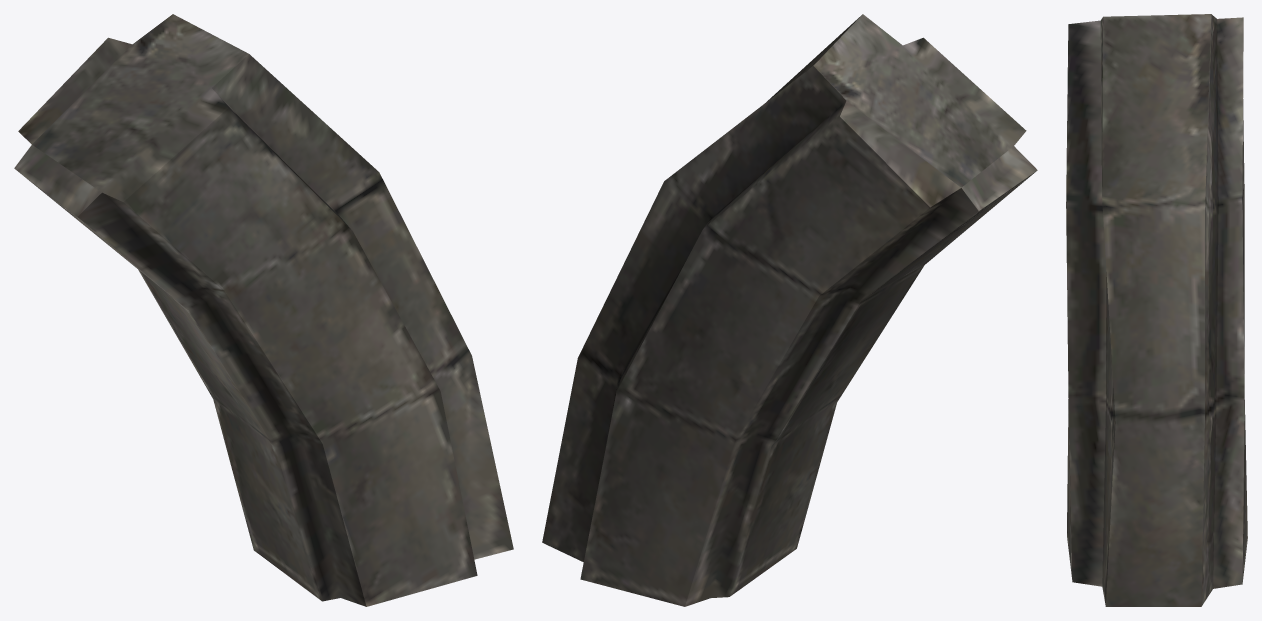
The model's file is SC_SLstone01.FBX.
3 renders of one model, left to right at view 1: azimuth 30°, elevation 25°; view 2: azimuth 150°, elevation 25°; view 3: azimuth 270°, elevation 25°, orthographic. The views are drawn at different scales.
Parts seen in each view (by area): view 1: SC_SLstone01; view 2: SC_SLstone01; view 3: SC_SLstone01.
Part boxes in pixels (x1,y1,x2,y2): SC_SLstone01: (14, 14, 513, 606); SC_SLstone01: (542, 14, 1037, 606); SC_SLstone01: (1066, 14, 1247, 606).
Size of the model in its own units: 154 by 186 by 63.66.
